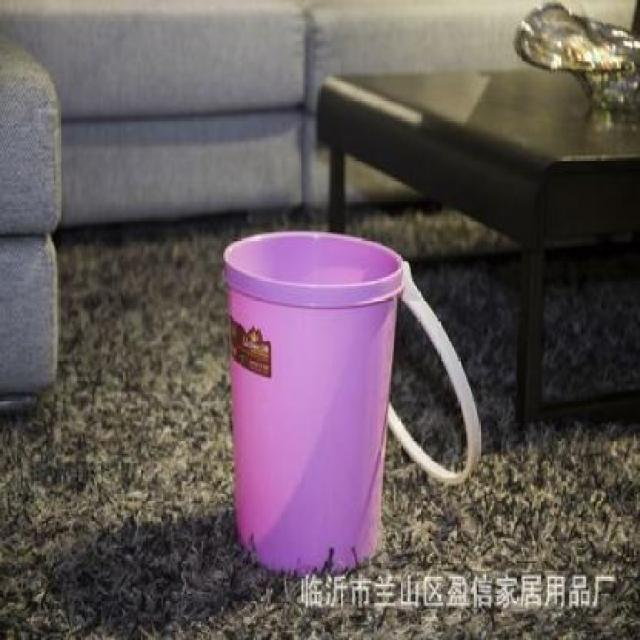dustbin: (218, 223, 482, 587)
